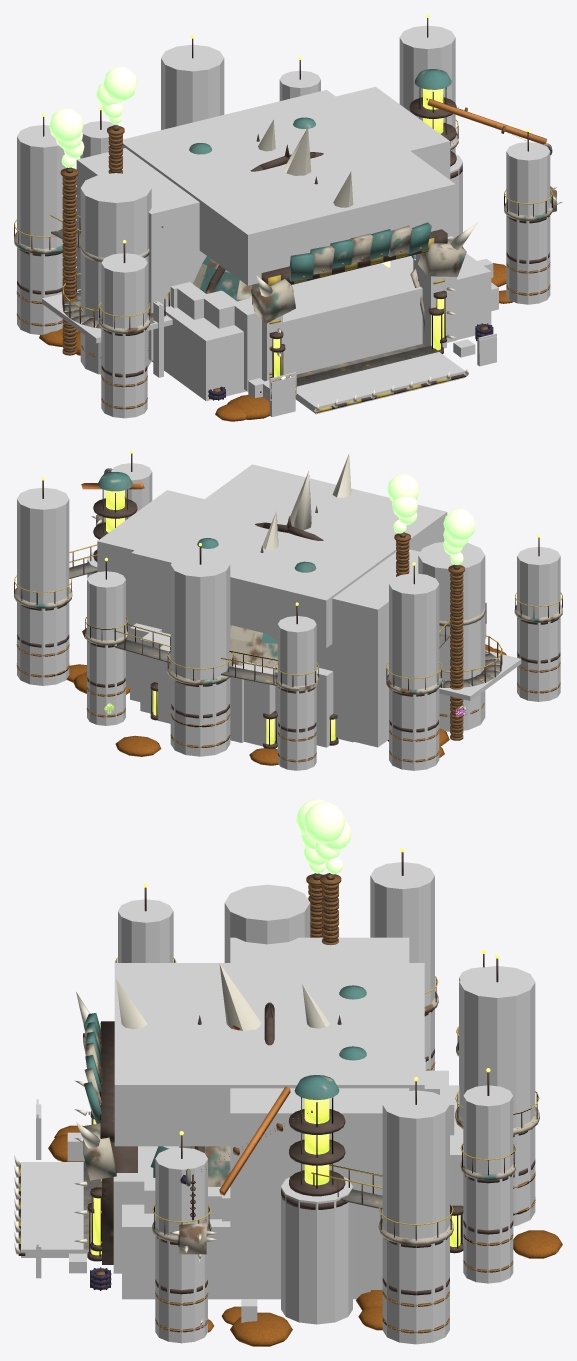
File: goo_hangar.glb
The picture shows the model from 3 angles, top to bottom: view 1: azimuth 30°, elevation 25°; view 2: azimuth 150°, elevation 25°; view 3: azimuth 270°, elevation 25°; orthographic projection. The views are drawn at different scales.
Parts seen in each view (by area): view 1: col_bld_goo_hangar_shell_22, col_bld_goo_hangar_legs, goo_hangar_body_b, col_bld_goo_hangar_pipes, goo_hangar_plain, col_bld_goo_hangar_goo_stackB, col_bld_goo_hangar_goo_tower_L, col_bld_goo_hangar_goo_stackA, goo_hangar_body_a, col_bld_goo_hangar_goo_stackC, col_bld_goo_hangar_goo_stackE, col_deck_goo_hangar_mouth (+14 smaller); view 2: col_bld_goo_hangar_shell_22, col_bld_goo_hangar_pipes, col_bld_goo_hangar_goo_stackE, goo_hangar_body_b, col_bld_goo_hangar_goo_stackD, col_bld_goo_hangar_goo_stackB, goo_hangar_plain, goo_hangar_body_a, col_bld_goo_hangar_goo_stackA, col_bld_goo_hangar_goo_tower_L, col_bld_goo_hangar_goo_stackF, col_bld_goo_hangar_goo_stackG (+8 smaller); view 3: col_bld_goo_hangar_shell_22, goo_hangar_body_b, col_bld_goo_hangar_pipes, col_bld_goo_hangar_goo_stackD, goo_hangar_plain, col_bld_goo_hangar_goo_stackE, col_bld_goo_hangar_goo_stackG, col_bld_goo_hangar_goo_tower_R, col_bld_goo_hangar_goo_stackC, col_bld_goo_hangar_goo_stackB, col_bld_goo_hangar_legs, col_deck_goo_hangar_mouth (+5 smaller).
Boxes of the visible parts, box(x1,y1,x2,y2) form: col_bld_goo_hangar_shell_22: box(122, 90, 455, 285); col_bld_goo_hangar_legs: box(151, 253, 491, 401); goo_hangar_body_b: box(100, 18, 556, 413); col_bld_goo_hangar_pipes: box(76, 87, 450, 360); goo_hangar_plain: box(39, 14, 562, 421); col_bld_goo_hangar_goo_stackB: box(17, 125, 66, 335); col_bld_goo_hangar_goo_tower_L: box(80, 173, 151, 374); col_bld_goo_hangar_goo_stackA: box(101, 253, 147, 418); goo_hangar_body_a: box(14, 117, 220, 409); col_bld_goo_hangar_goo_stackC: box(506, 142, 550, 304); col_bld_goo_hangar_goo_stackE: box(161, 44, 224, 129); col_deck_goo_hangar_mouth: box(295, 352, 465, 413); col_bld_goo_hangar_shell_22: box(131, 464, 447, 648); col_bld_goo_hangar_pipes: box(97, 490, 419, 747); col_bld_goo_hangar_goo_stackE: box(170, 552, 230, 756); goo_hangar_body_b: box(14, 453, 338, 762); col_bld_goo_hangar_goo_stackD: box(17, 487, 69, 685); col_bld_goo_hangar_goo_stackB: box(389, 573, 439, 770); goo_hangar_plain: box(41, 450, 540, 765); goo_hangar_body_a: box(294, 532, 562, 762); col_bld_goo_hangar_goo_stackA: box(517, 547, 560, 701); col_bld_goo_hangar_goo_tower_L: box(418, 542, 485, 731); col_bld_goo_hangar_goo_stackF: box(277, 616, 316, 770); col_bld_goo_hangar_goo_stackG: box(87, 571, 125, 725); col_bld_goo_hangar_shell_22: box(114, 963, 424, 1146); goo_hangar_body_b: box(18, 954, 539, 1333); col_bld_goo_hangar_pipes: box(230, 937, 409, 1289); col_bld_goo_hangar_goo_stackD: box(382, 1090, 449, 1344); goo_hangar_plain: box(14, 799, 562, 1346); col_bld_goo_hangar_goo_stackE: box(459, 966, 535, 1226); col_bld_goo_hangar_goo_stackG: box(463, 1085, 513, 1283); col_bld_goo_hangar_goo_tower_R: box(281, 1177, 352, 1324); col_bld_goo_hangar_goo_stackC: box(155, 1147, 207, 1343); col_bld_goo_hangar_goo_stackB: box(370, 862, 434, 1070); col_bld_goo_hangar_legs: box(122, 1146, 370, 1299); col_deck_goo_hangar_mouth: box(21, 1162, 91, 1257).
Size of the model in its own units: 29.43 by 16.48 by 24.35.
Materials: 20 (8 with a texture image).
